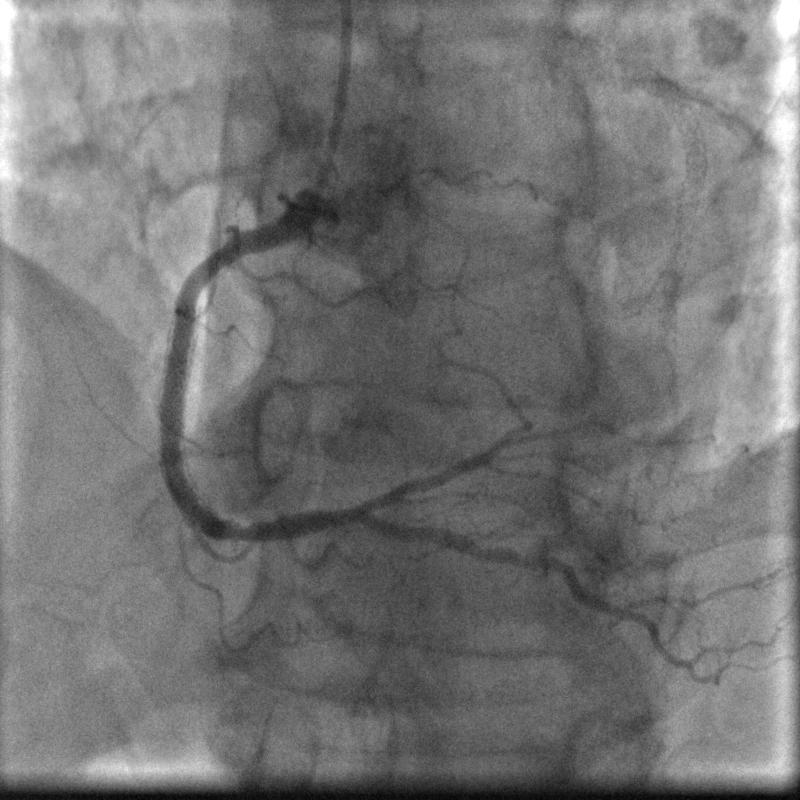Stenosis: (196, 247, 242, 283)
